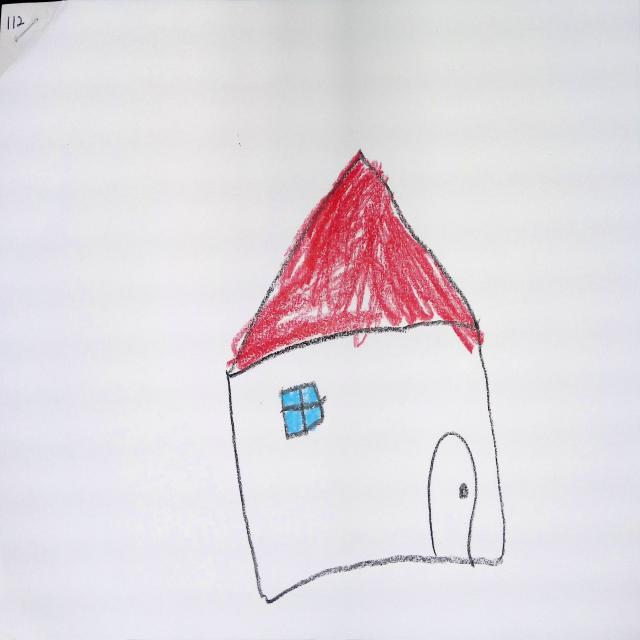door: (429, 433, 478, 559)
house: (226, 151, 507, 604)
roof: (228, 151, 483, 375)
wall: (230, 322, 505, 604)
window: (281, 383, 326, 440)
